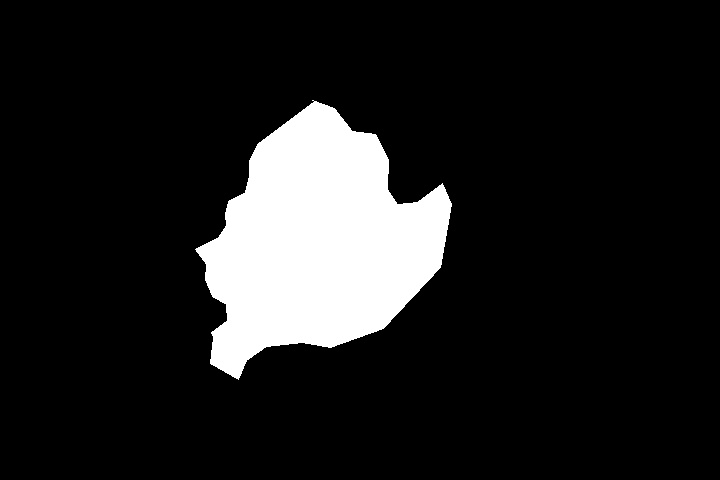Fire: (213, 101, 441, 370)
